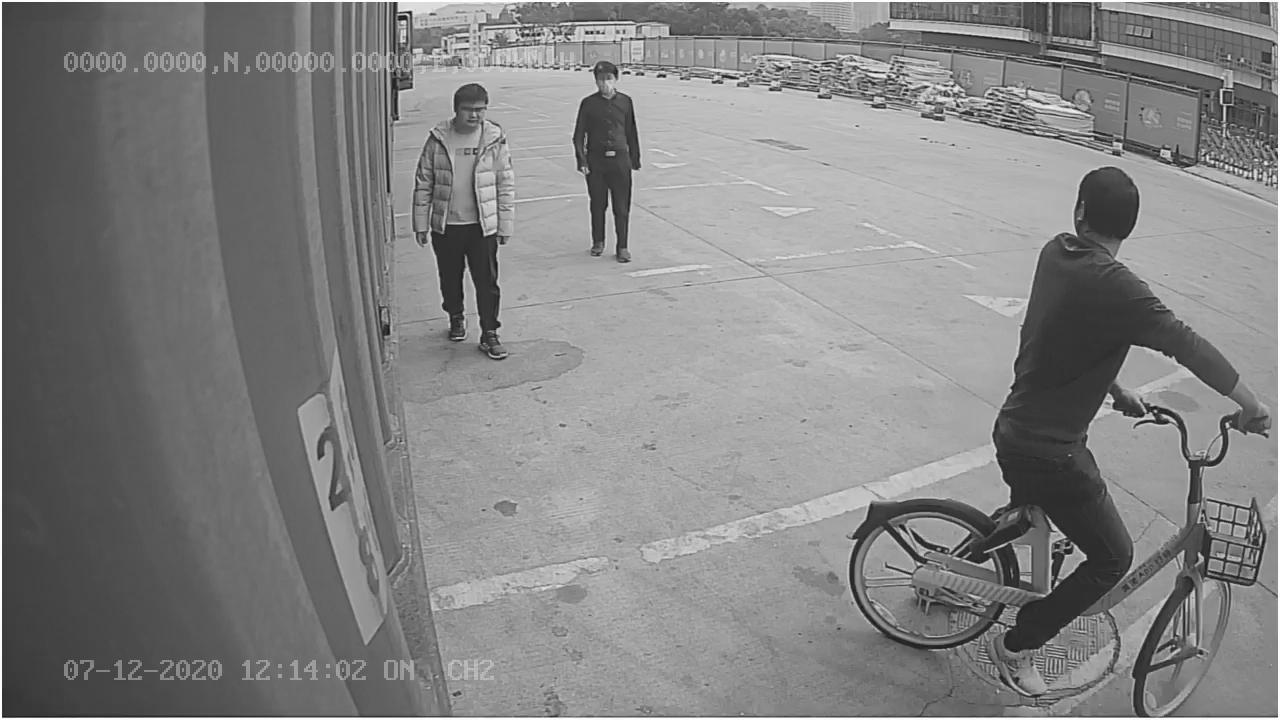person: (412, 82, 518, 364), (553, 54, 659, 275)
